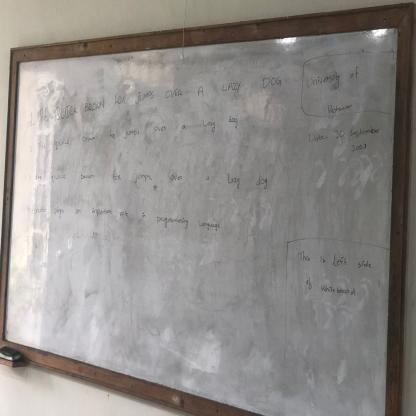Handwritten text: (34, 63, 288, 130), (33, 107, 246, 156), (27, 204, 223, 237), (34, 169, 271, 191), (295, 247, 375, 272), (304, 61, 365, 93), (298, 274, 360, 300), (326, 99, 356, 117), (350, 125, 381, 141), (307, 128, 325, 146)
Whiteboard: (0, 9, 402, 416)
